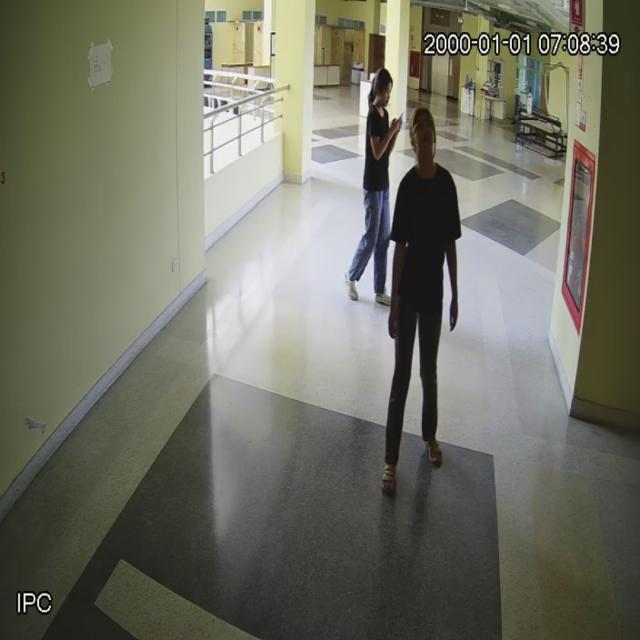normal: (378, 101, 458, 507), (344, 58, 394, 306)
